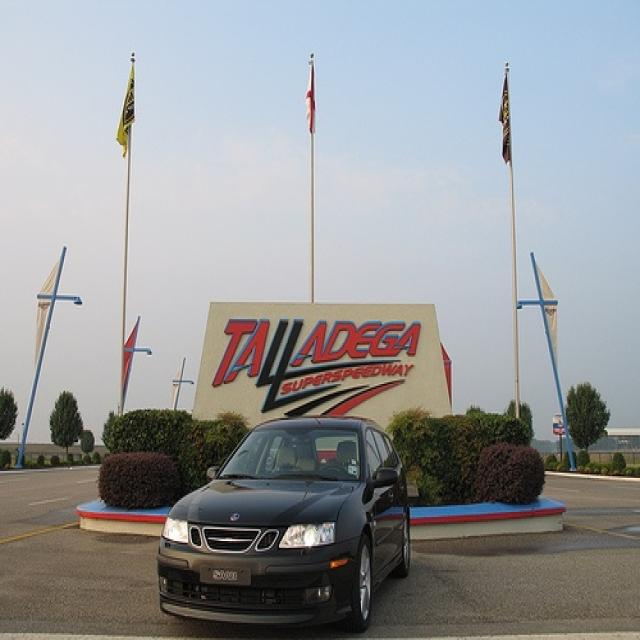car: (155, 413, 409, 631)
